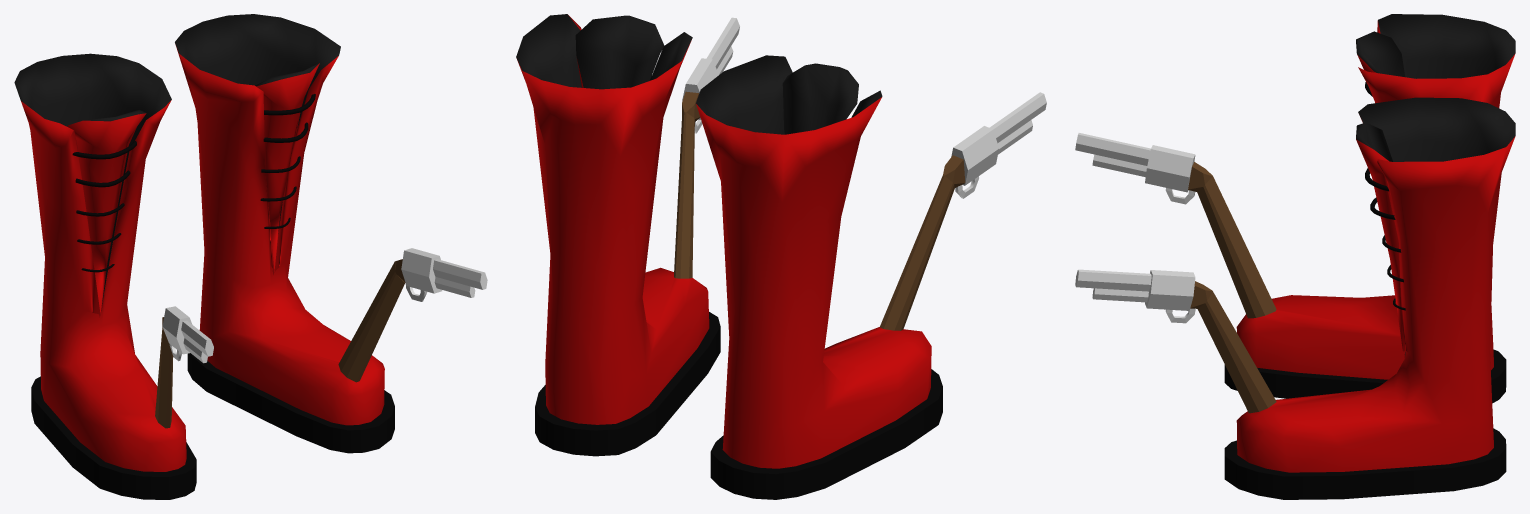
The model's file is GunBoots.fbx.
The picture shows the model from 3 angles, left to right: view 1: azimuth 30°, elevation 25°; view 2: azimuth 150°, elevation 25°; view 3: azimuth 270°, elevation 25°; orthographic projection. The views are drawn at different scales.
Parts seen in each view (by area): view 1: Shoe|Boot|Dupli|, Shoe.001|Boot|Dupli|, Shoe|Pistol|Dupli|1, Shoe.001|Pistol|Dupli|1; view 2: Shoe.001|Boot|Dupli|, Shoe|Boot|Dupli|, Shoe.001|Pistol|Dupli|1, Shoe|Pistol|Dupli|1; view 3: Shoe|Boot|Dupli|, Shoe.001|Boot|Dupli|, Shoe.001|Pistol|Dupli|1, Shoe|Pistol|Dupli|1.
Part boxes in pixels (x1=…): Shoe|Boot|Dupli|: x1=175, y1=14, x2=394, y2=453; Shoe.001|Boot|Dupli|: x1=14, y1=53, x2=196, y2=499; Shoe|Pistol|Dupli|1: x1=338, y1=248, x2=487, y2=382; Shoe.001|Pistol|Dupli|1: x1=155, y1=306, x2=213, y2=428; Shoe.001|Boot|Dupli|: x1=696, y1=55, x2=942, y2=499; Shoe|Boot|Dupli|: x1=516, y1=14, x2=720, y2=456; Shoe.001|Pistol|Dupli|1: x1=880, y1=92, x2=1046, y2=330; Shoe|Pistol|Dupli|1: x1=674, y1=17, x2=739, y2=278; Shoe|Boot|Dupli|: x1=1224, y1=97, x2=1515, y2=499; Shoe.001|Boot|Dupli|: x1=1224, y1=14, x2=1515, y2=403; Shoe.001|Pistol|Dupli|1: x1=1075, y1=133, x2=1276, y2=318; Shoe|Pistol|Dupli|1: x1=1075, y1=269, x2=1276, y2=413.
Bounding box in the file's own units: 717 × 769 × 903.
